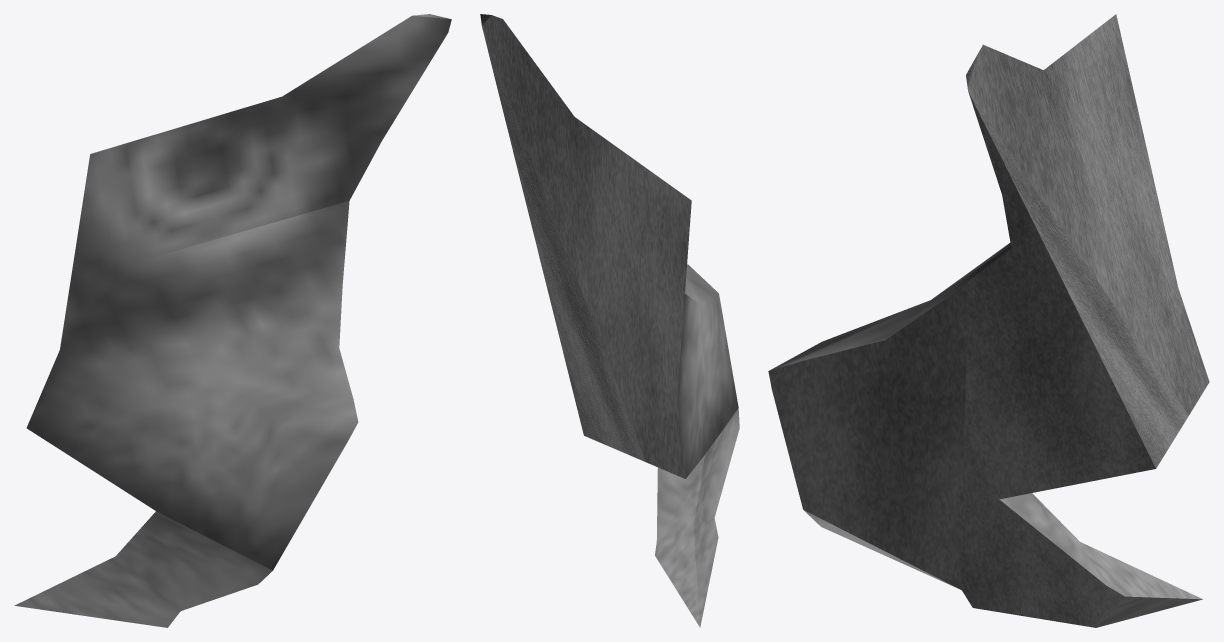
File: body_cell_010.fbx
The picture shows the model from 3 angles, left to right: view 1: azimuth 30°, elevation 25°; view 2: azimuth 150°, elevation 25°; view 3: azimuth 270°, elevation 25°; orthographic projection. The views are drawn at different scales.
Parts seen in each view (by area): view 1: body_cell.010; view 2: body_cell.010; view 3: body_cell.010.
Boxes of the visible parts, x1=… form: body_cell.010: x1=14, y1=14, x2=451, y2=627; body_cell.010: x1=480, y1=14, x2=739, y2=627; body_cell.010: x1=768, y1=14, x2=1209, y2=627.
Bounding box in the file's own units: 21.42 × 33.84 × 17.88.
